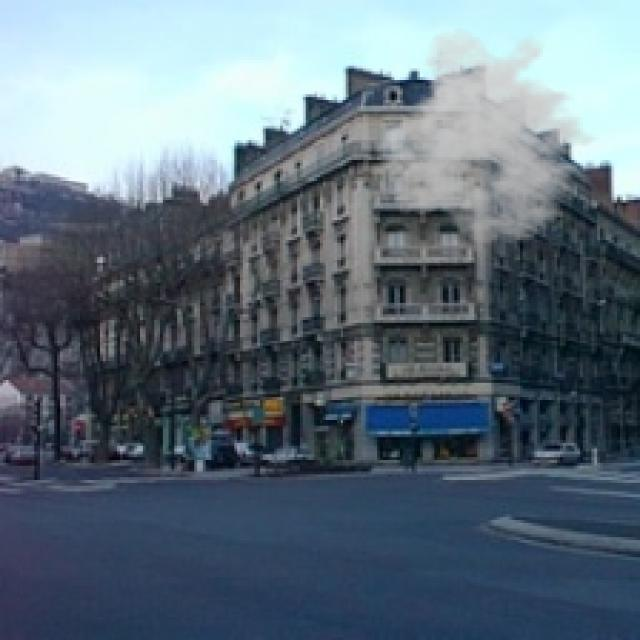Smoke: (368, 26, 612, 246)
